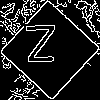Z: (25, 25, 57, 72)
